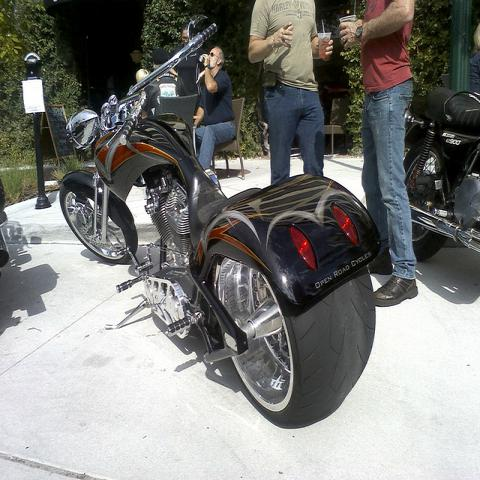motorcycle: (58, 23, 381, 419), (403, 86, 478, 263), (0, 214, 10, 277)
